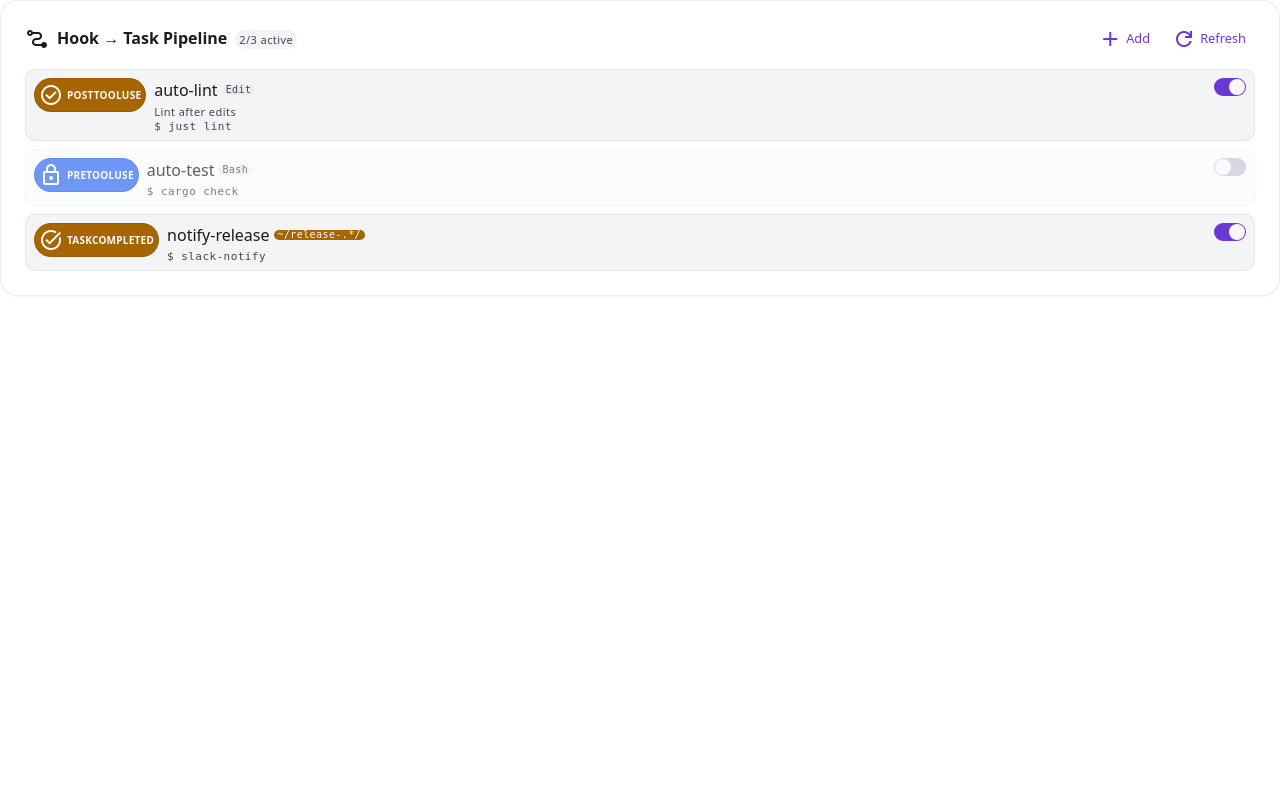
it: HookTaskPipeline › Add button opens the create dialog
This screenshot has width=1280, height=800.
Check: the text "auto-lint" is shown, box [154, 78, 218, 102]
Click the button with aria-label "Create new hook routine". click: [1124, 39]
box: [1089, 25, 1159, 53]
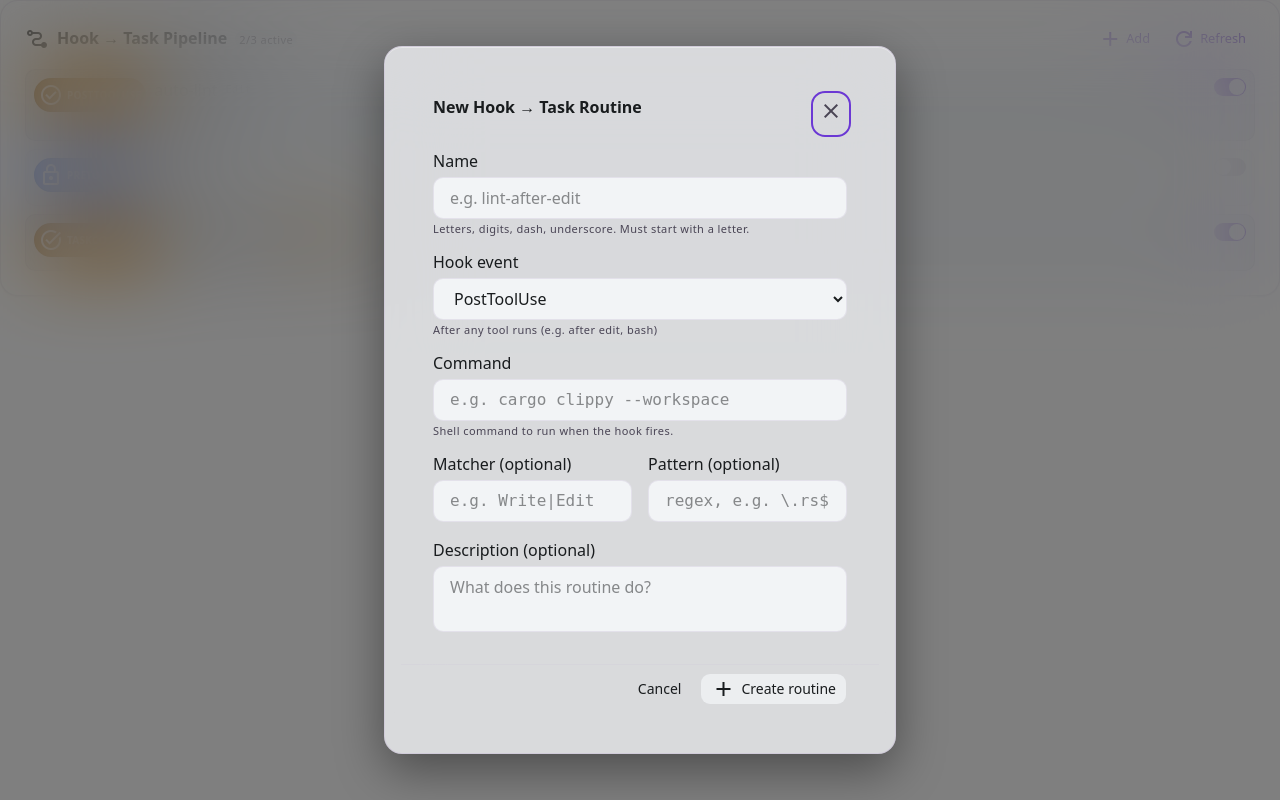
Check: the heading "New Hook → Task Routine" is shown, box [433, 96, 642, 118]
